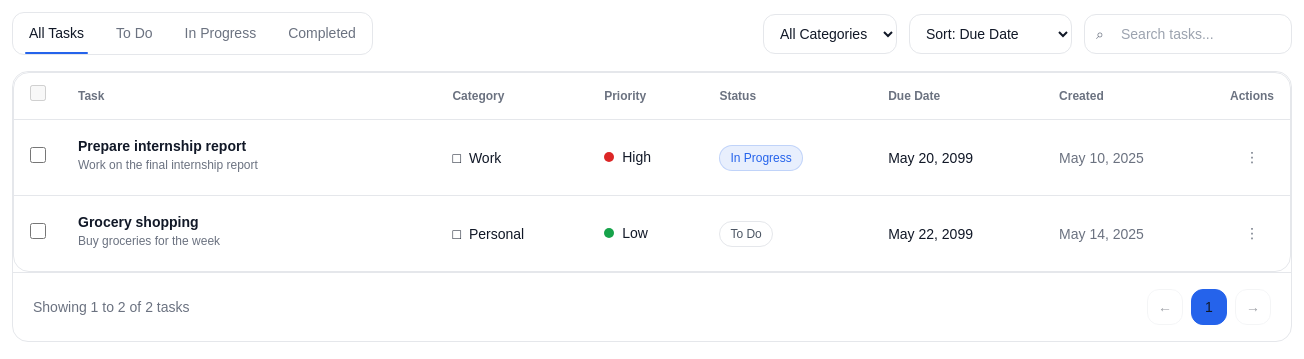
Scenario: TaskSection › filters tasks by status
Click the button "In Progress" at (220, 34), box x1=169 y1=13 x2=272 y2=54
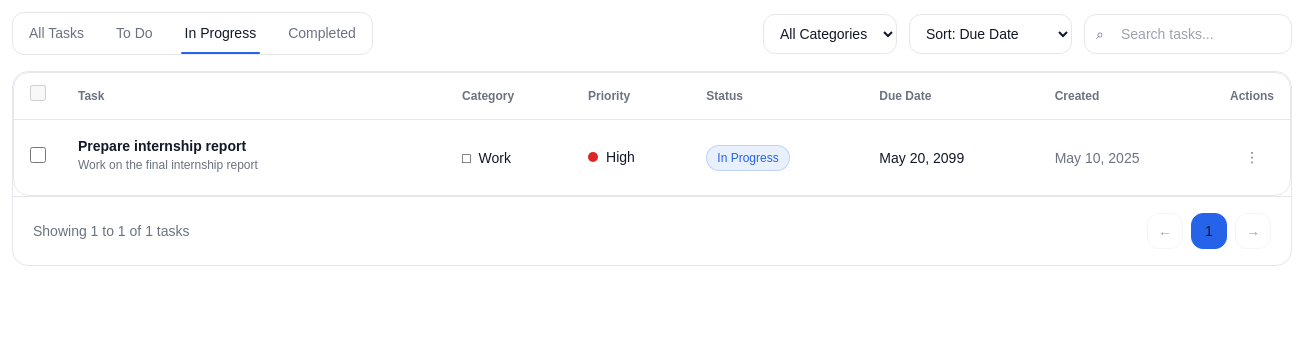
Check: the text "Prepare internship report" is shown, box x1=78 y1=136 x2=258 y2=157
Check: the button "Grocery shopping" is gone
